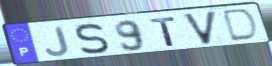9: (114, 19, 147, 52)
D: (222, 8, 260, 43)
J: (43, 25, 72, 57)
S: (74, 22, 111, 55)
T: (149, 15, 179, 48)
V: (181, 10, 219, 47)
